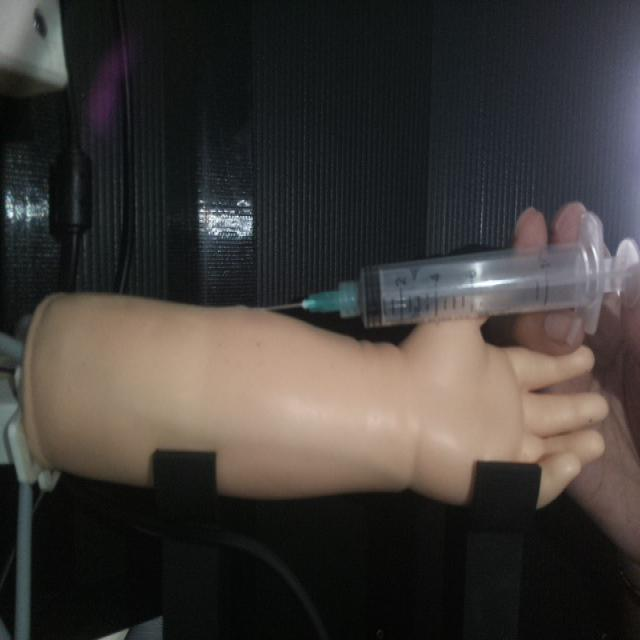Outside: (268, 223, 638, 333)
